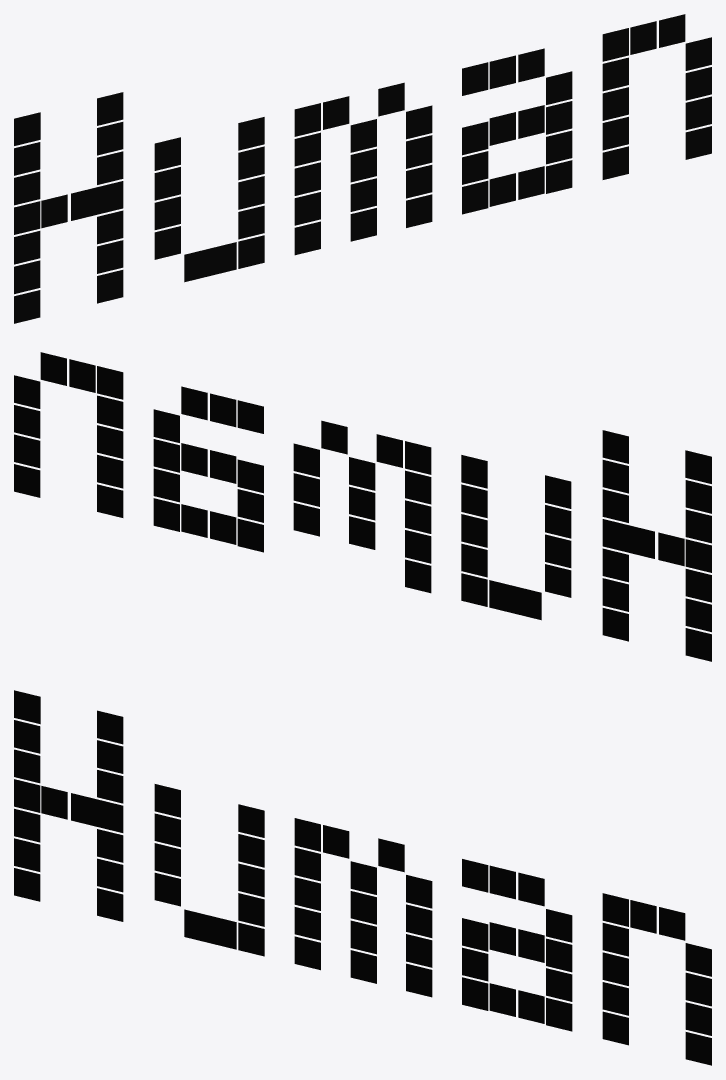
Rendered from Word_Human.glb.
3 renders of one model, top to bottom at view 1: azimuth 30°, elevation 25°; view 2: azimuth 150°, elevation 25°; view 3: azimuth 330°, elevation 25°, orthographic.
Parts seen in each view (by area): view 1: Human; view 2: Human; view 3: Human.
Part boxes in pixels (<box>): Human: <box>14,14,711,323</box>; Human: <box>14,352,711,661</box>; Human: <box>14,690,711,1065</box>.
Size of the model in its own units: 0.7751 by 0.2177 by 3.58e-07.
Materials: 1 (1 with a texture image).
